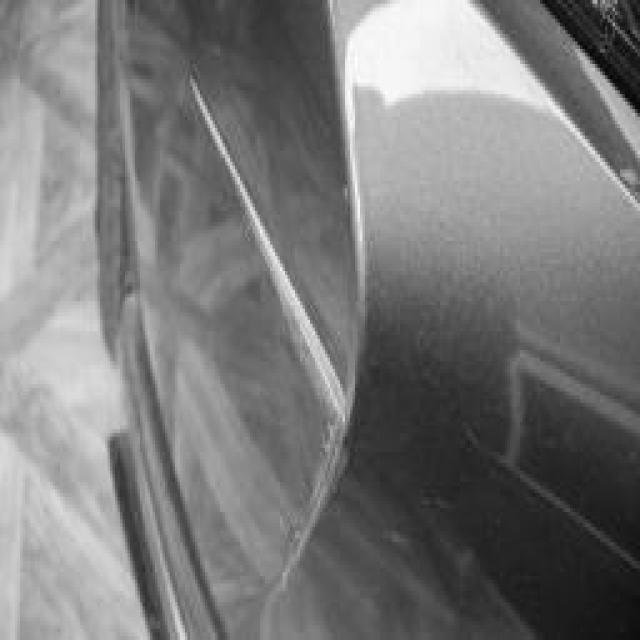Door: (150, 11, 378, 621)
